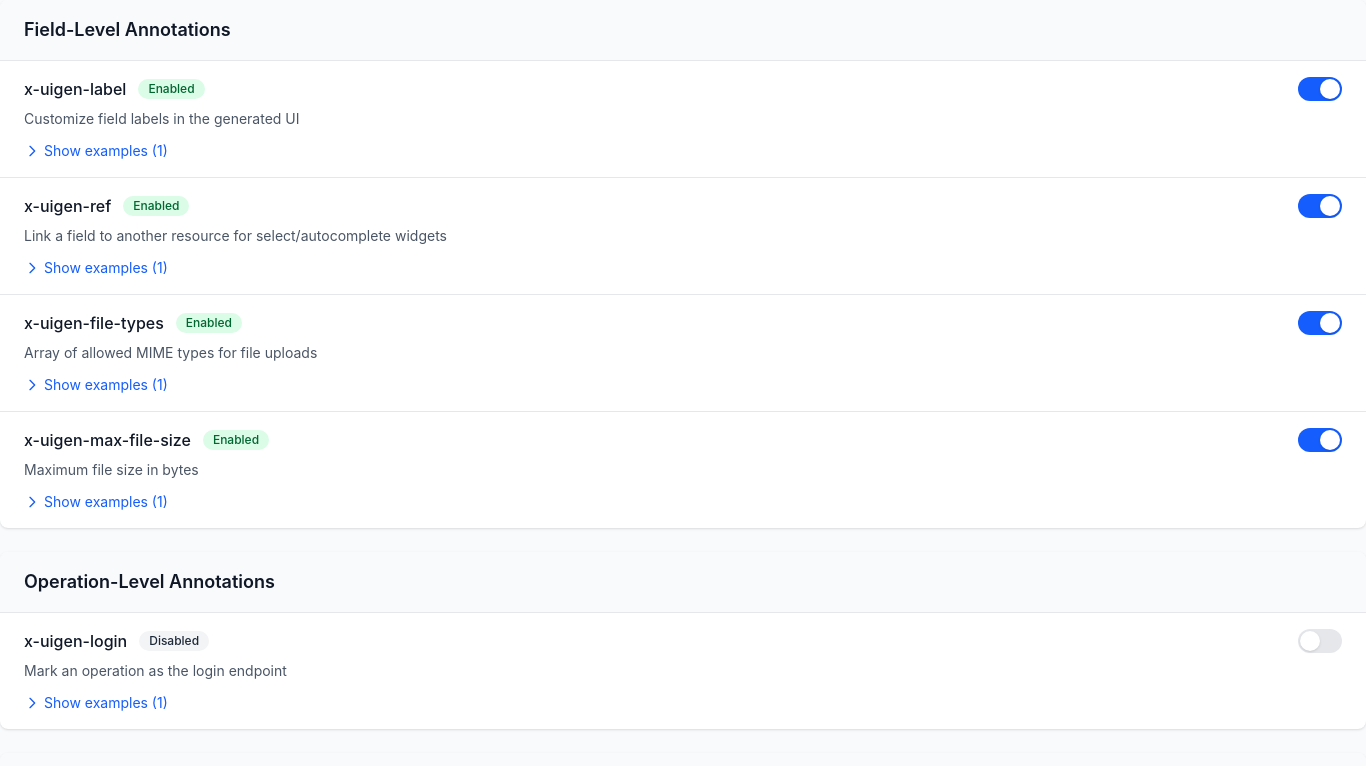
AnnotationList › should show/hide examples when clicked
# Click the first one (x-uigen-label)
Click the button "Show examples (1)" below "x-uigen-label".
click(96, 151)  # box 24,141 -> 168,161
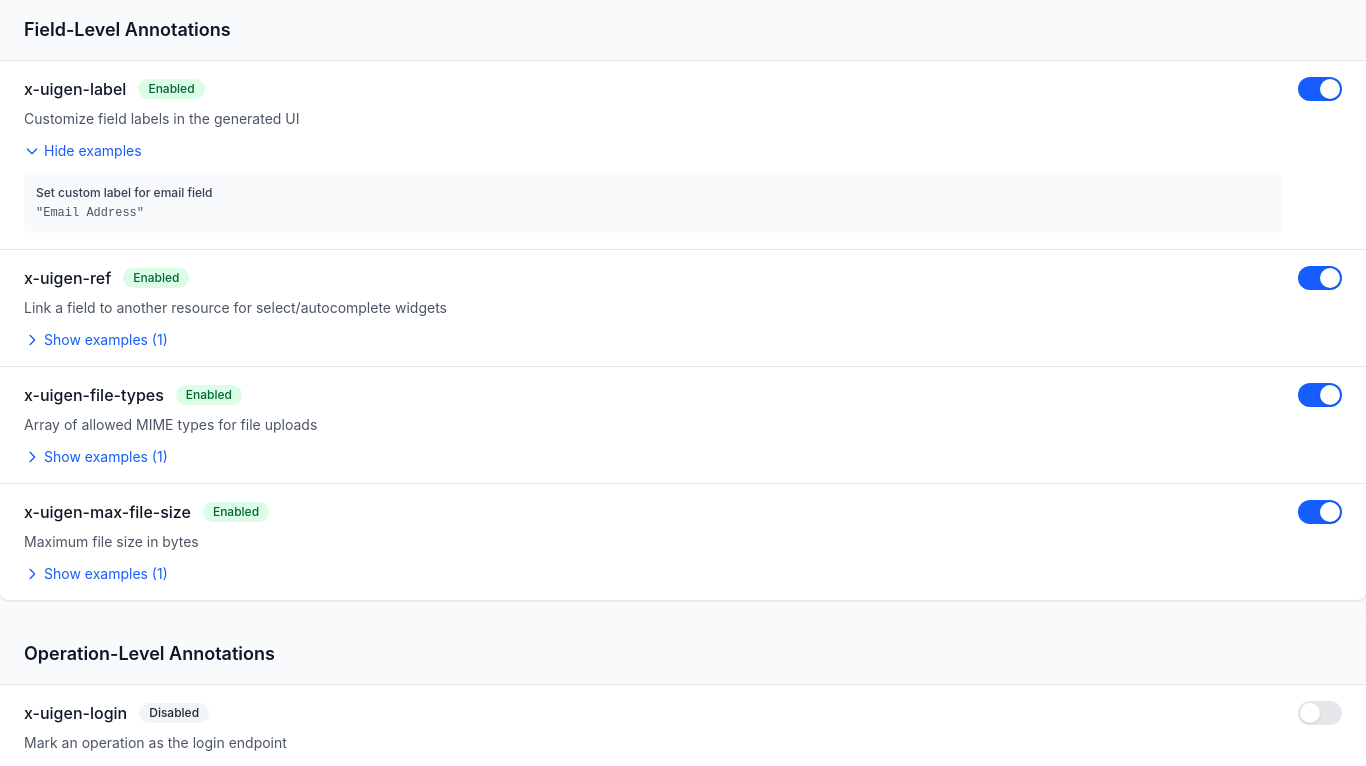
Expected: the text "Set custom label for email field" is shown, 36,185 -> 212,200
# Click to hide examples
Click the button "Hide examples".
click(83, 151)  # box 24,141 -> 142,161
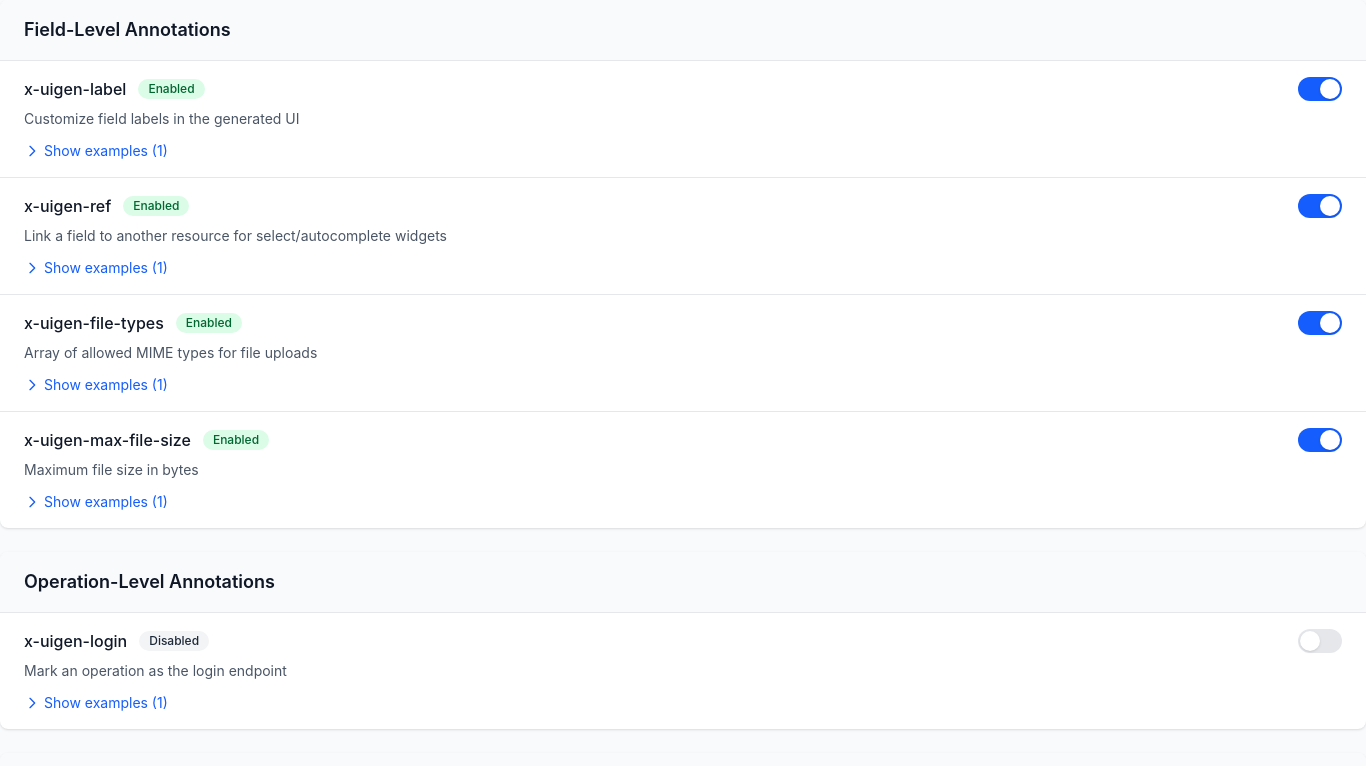
Expected: the text "Set custom label for email field" is gone
